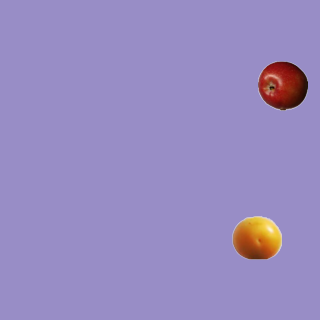Apple Braeburn: (257, 60, 307, 110)
Cherry Wax Yellow: (231, 212, 281, 262)
